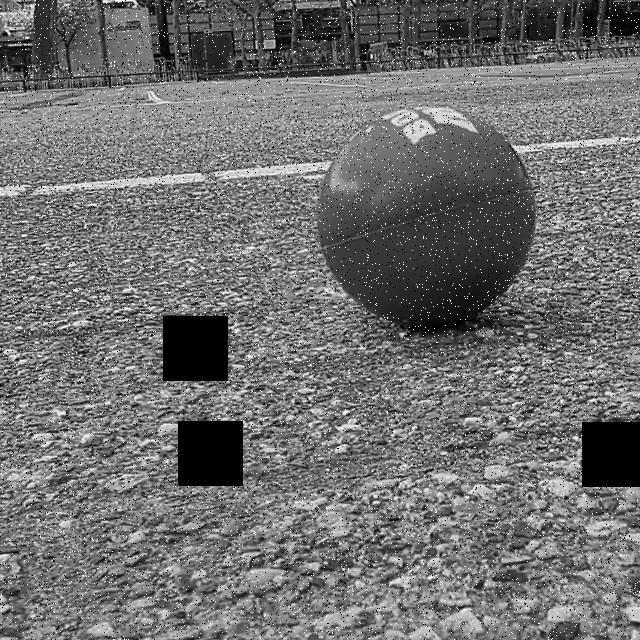ball: (314, 102, 538, 336)
